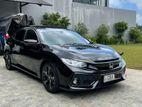car: (5, 26, 129, 93)
